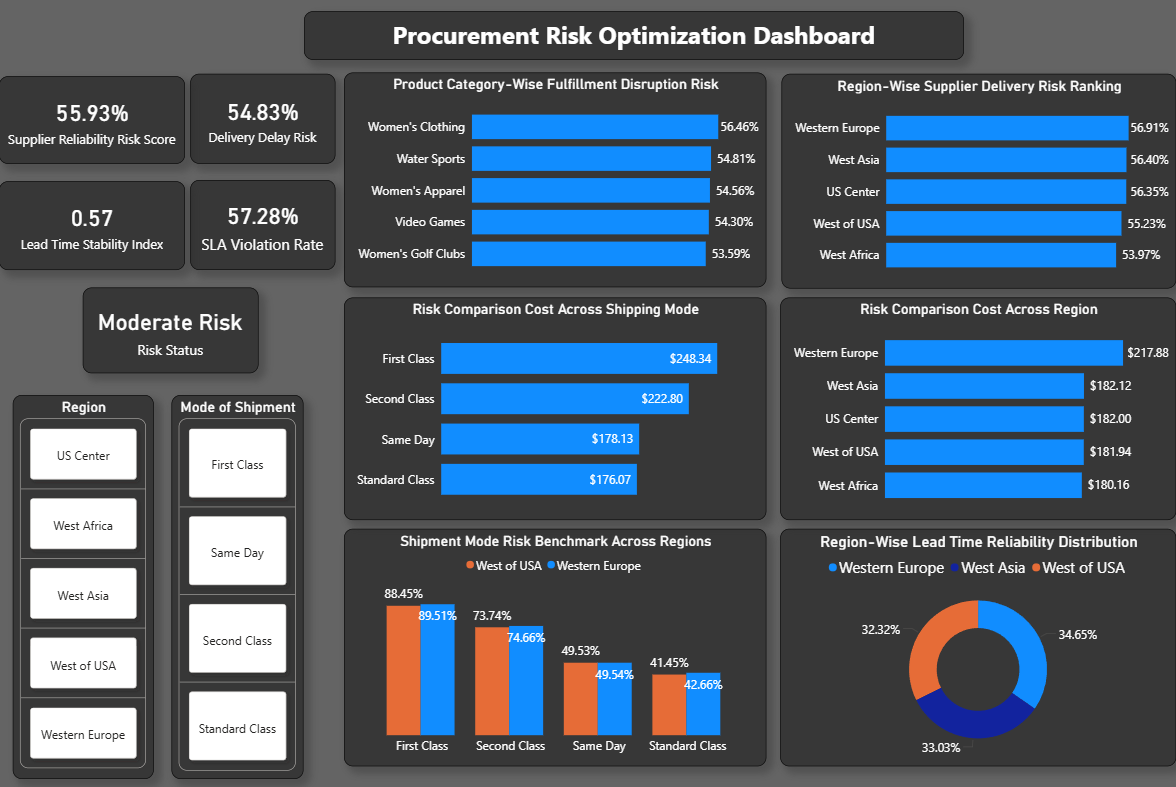

This screenshot's page, from the dashboard's own definition file:
{"tool":"powerbi","page":{"name":"Page 1","canvas":[1570,1050],"ordinal":0},"visuals":[{"type":"card","fields":{"Values":["fact_procurement_orders.Delay Probability"]},"box":[255,98.3,193.3,120],"z":0},{"type":"card","fields":{"Values":["fact_procurement_orders.SLA Failure Rate"]},"box":[255,240,193.3,120],"z":1000},{"type":"card","fields":{"Values":["fact_procurement_orders.Dynamic Risk Status"]},"box":[112,384,234,114],"z":2000},{"type":"card","fields":{"Values":["fact_procurement_orders.Supplier Risk Index"]},"box":[0,101.7,248.3,116.7],"z":3000},{"type":"advancedSlicerVisual","title":"Region","fields":{"Values":["dim_region.order_region"]},"box":[18,526,188,512],"z":4000},{"type":"advancedSlicerVisual","title":"Mode of Shipment","fields":{"Values":["dim_shipping_mode.shipping_mode"]},"box":[230,526,176,512],"z":5000},{"type":"clusteredBarChart","title":"Region-Wise Supplier Delivery Risk Ranking","fields":{"Category":["dim_region.order_region"],"Y":["fact_procurement_orders.Supplier Risk Index"]},"box":[1043.3,98.3,526.7,286.7],"z":8000},{"type":"clusteredColumnChart","title":"Shipment Mode Risk Benchmark Across Regions","fields":{"Category":["dim_shipping_mode.shipping_mode"],"Y":["fact_procurement_orders.Supplier Risk Index"],"Series":["dim_region.order_region"]},"box":[460,705,563.3,316.7],"z":8001},{"type":"clusteredBarChart","title":"Product Category-Wise Fulfillment Disruption Risk","fields":{"Category":["dim_category.category_name"],"Y":["fact_procurement_orders.Delay Probability"]},"box":[460,96.7,563.3,286.7],"z":8002},{"type":"donutChart","title":"Region-Wise Lead Time Reliability Distribution","fields":{"Category":["dim_region.order_region"],"Y":["fact_procurement_orders.Lead Time Stability Score"]},"box":[1041.7,705,528.3,316.7],"z":8004},{"type":"textbox","box":[406.7,15,880,65],"z":8005},{"type":"barChart","title":"Risk Comparison Cost Across Shipping Mode","fields":{"Category":["dim_shipping_mode.shipping_mode"],"Y":["fact_procurement_orders.Risk Adjusted Cost"]},"box":[460,396.7,563.3,296.7],"z":8006},{"type":"card","fields":{"Values":["fact_procurement_orders.Lead Time Stability Score"]},"box":[0,241.7,248.3,118.3],"z":8007},{"type":"clusteredBarChart","title":"Risk Comparison Cost Across Region","fields":{"Category":["dim_region.order_region"],"Y":["fact_procurement_orders.Risk Adjusted Cost"]},"box":[1041.7,396.7,528.3,296.7],"z":8008}]}

Visuals, with their boxes in screenshot pixels (x1, y1, x2, y2), scaled from the page's 1570x1050 canvas onto the 1176x787 screenshot:
card - fact_procurement_orders.Delay Probability: (191, 74, 336, 164)
card - fact_procurement_orders.SLA Failure Rate: (191, 180, 336, 270)
card - fact_procurement_orders.Dynamic Risk Status: (84, 288, 259, 373)
card - fact_procurement_orders.Supplier Risk Index: (0, 76, 186, 164)
"Region" advancedSlicerVisual: (13, 394, 154, 778)
"Mode of Shipment" advancedSlicerVisual: (172, 394, 304, 778)
"Region-Wise Supplier Delivery Risk Ranking" clusteredBarChart: (781, 74, 1175, 289)
"Shipment Mode Risk Benchmark Across Regions" clusteredColumnChart: (345, 528, 766, 766)
"Product Category-Wise Fulfillment Disruption Risk" clusteredBarChart: (345, 72, 766, 287)
"Region-Wise Lead Time Reliability Distribution" donutChart: (780, 528, 1175, 766)
textbox: (305, 11, 964, 60)
"Risk Comparison Cost Across Shipping Mode" barChart: (345, 297, 766, 520)
card - fact_procurement_orders.Lead Time Stability Score: (0, 181, 186, 270)
"Risk Comparison Cost Across Region" clusteredBarChart: (780, 297, 1175, 520)
